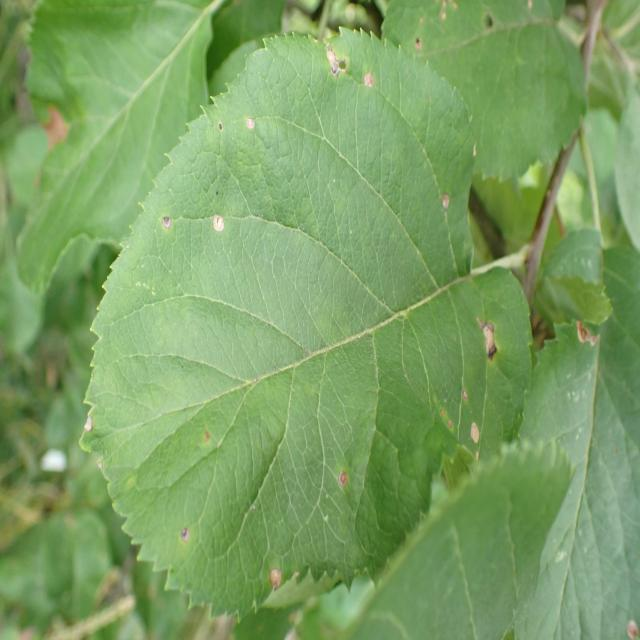Black Rot: (443, 383, 488, 455), (314, 23, 357, 89), (466, 314, 515, 369), (354, 51, 386, 120), (203, 195, 235, 263), (328, 467, 372, 515), (427, 180, 464, 227), (150, 201, 186, 244), (194, 108, 233, 134), (233, 102, 261, 134), (253, 564, 253, 564)
